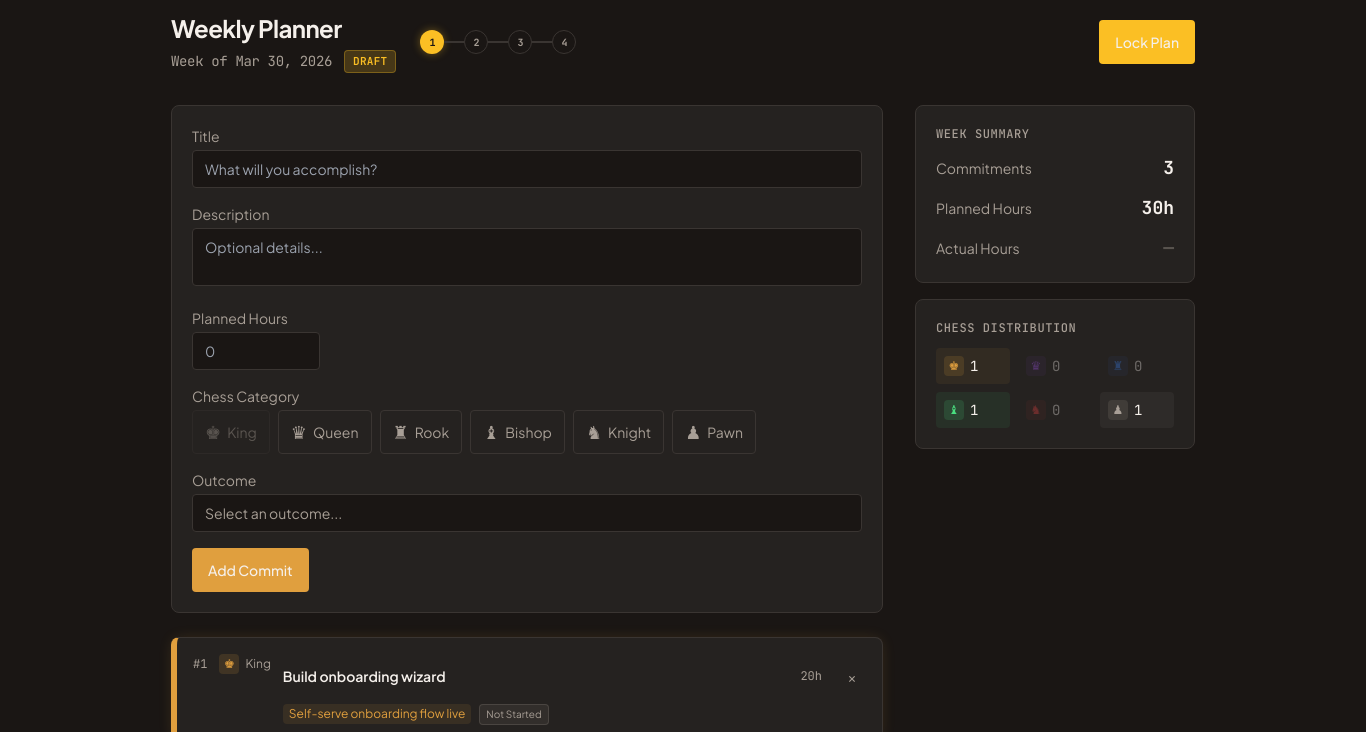
Test case: WeeklyPlannerPage › shows validation errors from lock attempt
Expected: the heading "Build onboarding wizard" is shown, [283,666,446,686]
Click the button "Lock Plan" at (1147, 42), box [1099,20,1195,64]
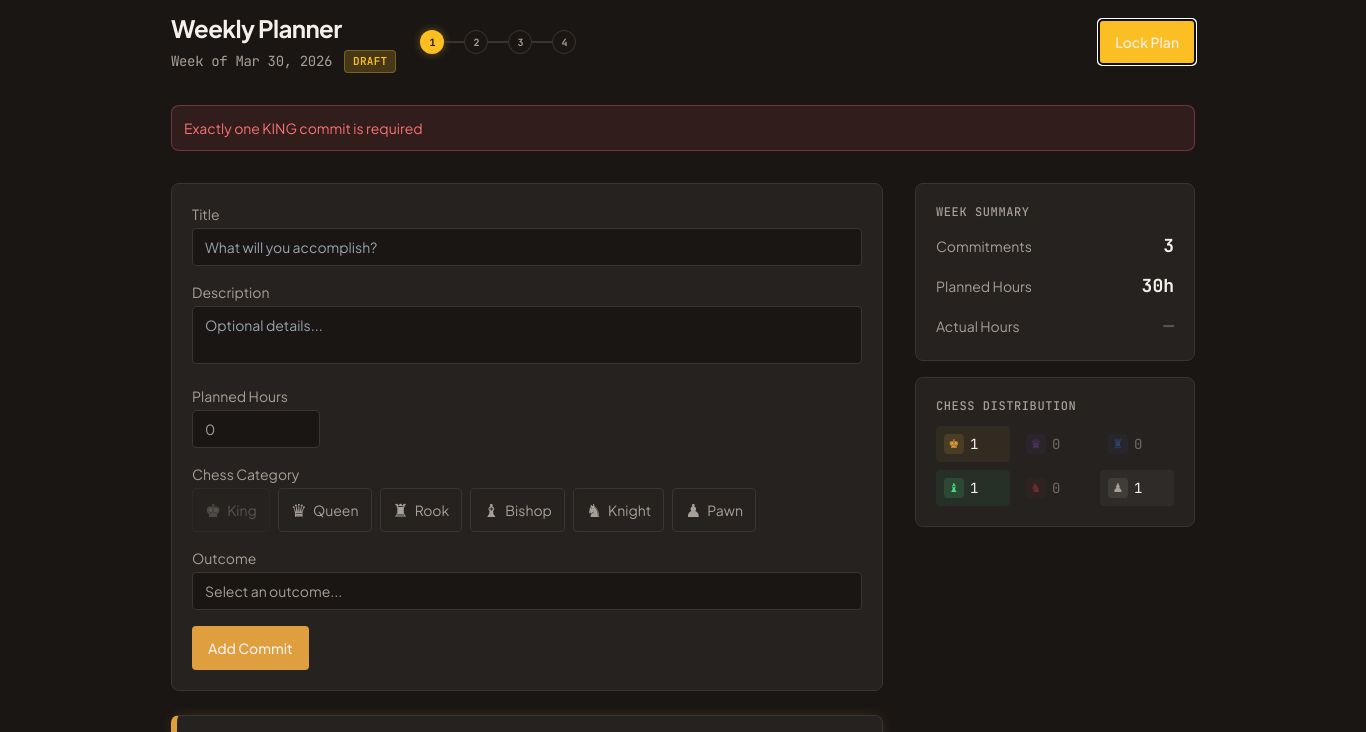
Now the text "Exactly one KING commit is required" is shown, box [171,104,1195,150]
